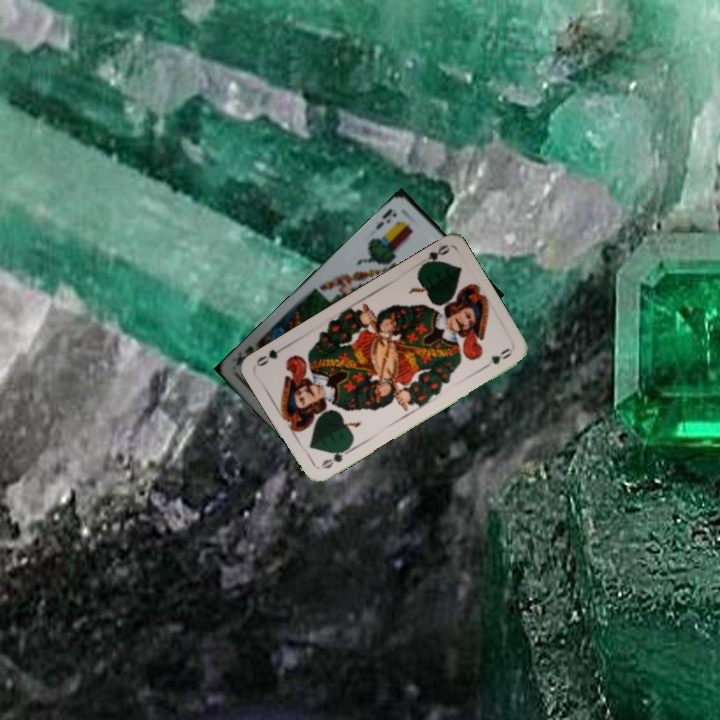EK: (371, 204, 400, 232)
GO: (416, 241, 452, 271), (317, 444, 353, 471)
